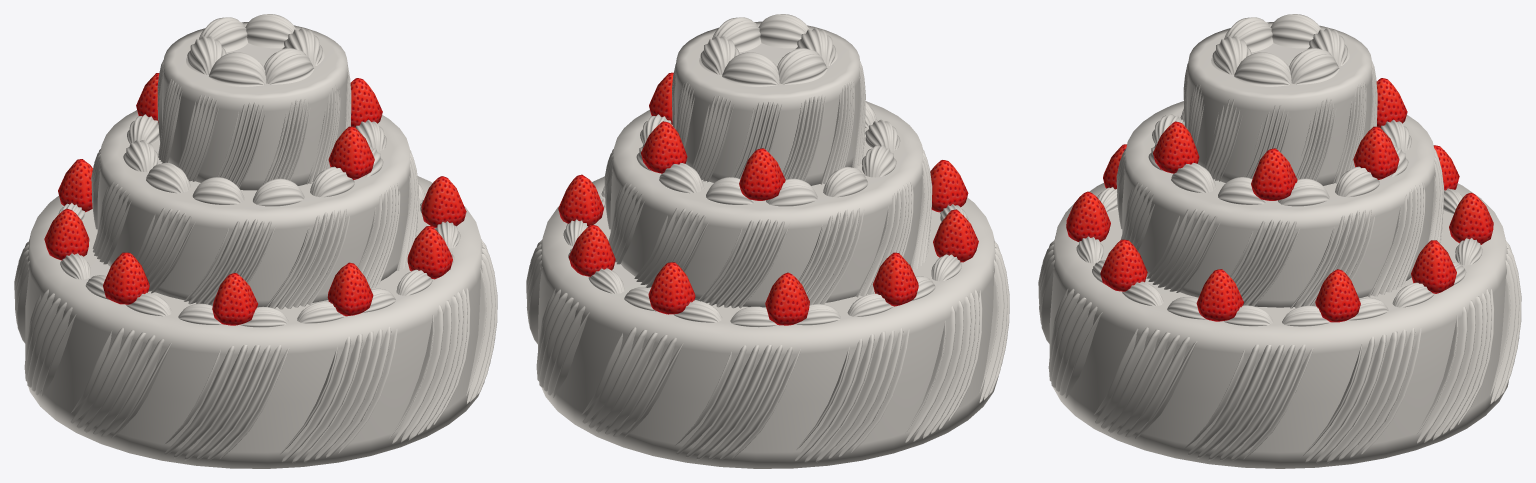
3 renders of one model, left to right at view 1: azimuth 30°, elevation 25°; view 2: azimuth 150°, elevation 25°; view 3: azimuth 270°, elevation 25°, orthographic.
Parts seen in each view (by area): view 1: pSphere16; view 2: pSphere16; view 3: pSphere16.
Part boxes in pixels (x1,y1,x2,y2): pSphere16: (14, 14, 497, 468); pSphere16: (526, 14, 1009, 468); pSphere16: (1038, 14, 1521, 468).
Size of the model in its own units: 32.56 by 25.1 by 32.56.
